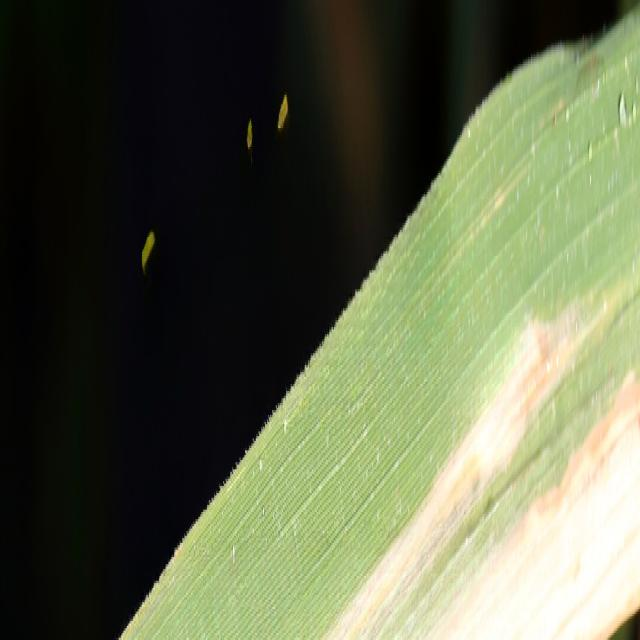BLB: (313, 273, 629, 640), (419, 362, 639, 640)
